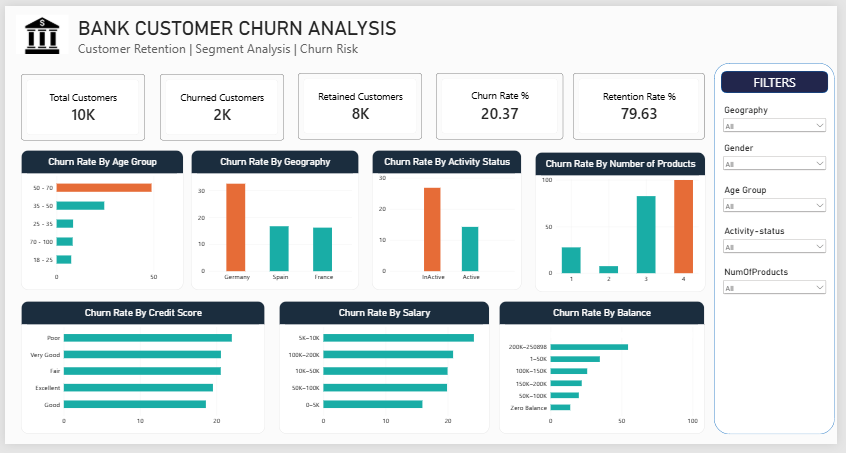

Layout of this report page (visuals, bound fields, positions):
{"tool":"powerbi","page":{"name":"Page 1","canvas":[2082,1093],"ordinal":0},"visuals":[{"type":"textbox","title":"BANK CUSTOMER CHURN ANALYSIS","box":[181.4,27.7,1718.4,141.1],"z":0},{"type":"image","box":[27.7,0,131,141.1],"z":1000},{"type":"cardVisual","fields":{"Data":["Updated_Bank_Customer_Churn.Total Customers"]},"box":[40.3,168.8,309.9,166.3],"z":2000},{"type":"cardVisual","fields":{"Data":["Updated_Bank_Customer_Churn.Churned Customers"]},"box":[388,168.8,309.9,166.3],"z":3000},{"type":"cardVisual","fields":{"Data":["Updated_Bank_Customer_Churn.Retained Customers"]},"box":[731.8,168.7,310.1,165.9],"z":4000},{"type":"cardVisual","fields":{"Data":["Updated_Bank_Customer_Churn.Churn Rate"]},"box":[1077.3,168.7,318.3,165.9],"z":5000},{"type":"cardVisual","fields":{"Data":["Updated_Bank_Customer_Churn.Retention Rate"]},"box":[1420.1,168.7,329.2,165.9],"z":6000},{"type":"barChart","title":"Churn Rate By Age Group","fields":{"Category":["Updated_Bank_Customer_Churn.age_range"],"Y":["Updated_Bank_Customer_Churn.Churn Rate %"]},"box":[40,360,406,350],"z":7000},{"type":"columnChart","title":"Churn Rate By Geography","fields":{"Category":["Updated_Bank_Customer_Churn.Geography"],"Y":["Updated_Bank_Customer_Churn.Churn Rate %"]},"box":[466,360,420,350],"z":8000},{"type":"columnChart","title":"Churn Rate By Activity Status","fields":{"Category":["Updated_Bank_Customer_Churn.activity-status"],"Y":["Updated_Bank_Customer_Churn.Churn Rate %"]},"box":[918,360,374,350],"z":9000},{"type":"clusteredColumnChart","title":"Churn Rate By Number of Products","fields":{"Category":["Updated_Bank_Customer_Churn.NumOfProducts"],"Y":["Updated_Bank_Customer_Churn.Churn Rate %"]},"box":[1324,364,426,350],"z":10000},{"type":"barChart","title":"Churn Rate By Credit Score","fields":{"Category":["Updated_Bank_Customer_Churn.CreditScoreRange"],"Y":["Updated_Bank_Customer_Churn.Churn Rate %"]},"box":[40,738,610,332],"z":11000},{"type":"barChart","title":"Churn Rate By Balance","fields":{"Category":["Updated_Bank_Customer_Churn.Balance_Range"],"Y":["Updated_Bank_Customer_Churn.Churn Rate %"]},"box":[1236,738,514,332],"z":12000},{"type":"barChart","title":"Churn Rate By Salary","fields":{"Category":["Updated_Bank_Customer_Churn.Salary_Range"],"Y":["Updated_Bank_Customer_Churn.Churn Rate %"]},"box":[686,738,526,332],"z":13000},{"type":"shape","box":[2194,252,150,166],"z":14000},{"type":"shape","box":[1773.3,141.7,301.7,928.3],"z":15000},{"type":"shape","box":[1790,161.7,268.3,55],"z":16000},{"type":"slicer","fields":{"Values":["Updated_Bank_Customer_Churn.Geography"]},"box":[1790,246.7,268.3,78.3],"z":17000},{"type":"slicer","fields":{"Values":["Updated_Bank_Customer_Churn.Gender"]},"box":[1790,343.3,268.3,78.3],"z":18000},{"type":"slicer","fields":{"Values":["Updated_Bank_Customer_Churn.age_range"]},"box":[1790,448.3,268.3,78.3],"z":19000},{"type":"slicer","fields":{"Values":["Updated_Bank_Customer_Churn.activity-status"]},"box":[1790,550,268.3,78.3],"z":20000},{"type":"slicer","fields":{"Values":["Updated_Bank_Customer_Churn.NumOfProducts"]},"box":[1790,651.7,268.3,78.3],"z":21000}]}

Visuals, with their boxes in screenshot pixels (x1, y1, x2, y2), scaled from the page's 2082x1093 canvas onto the 846x453 screenshot:
"BANK CUSTOMER CHURN ANALYSIS" textbox: bbox=(74, 11, 772, 70)
image: bbox=(11, 0, 64, 58)
cardVisual - Updated_Bank_Customer_Churn.Total Customers: bbox=(16, 70, 142, 139)
cardVisual - Updated_Bank_Customer_Churn.Churned Customers: bbox=(158, 70, 284, 139)
cardVisual - Updated_Bank_Customer_Churn.Retained Customers: bbox=(297, 70, 423, 139)
cardVisual - Updated_Bank_Customer_Churn.Churn Rate: bbox=(438, 70, 567, 139)
cardVisual - Updated_Bank_Customer_Churn.Retention Rate: bbox=(577, 70, 711, 139)
"Churn Rate By Age Group" barChart: bbox=(16, 149, 181, 294)
"Churn Rate By Geography" columnChart: bbox=(189, 149, 360, 294)
"Churn Rate By Activity Status" columnChart: bbox=(373, 149, 525, 294)
"Churn Rate By Number of Products" clusteredColumnChart: bbox=(538, 151, 711, 296)
"Churn Rate By Credit Score" barChart: bbox=(16, 306, 264, 443)
"Churn Rate By Balance" barChart: bbox=(502, 306, 711, 443)
"Churn Rate By Salary" barChart: bbox=(279, 306, 492, 443)
shape: bbox=(721, 59, 843, 443)
shape: bbox=(727, 67, 836, 90)
slicer - Updated_Bank_Customer_Churn.Geography: bbox=(727, 102, 836, 135)
slicer - Updated_Bank_Customer_Churn.Gender: bbox=(727, 142, 836, 175)
slicer - Updated_Bank_Customer_Churn.age_range: bbox=(727, 186, 836, 218)
slicer - Updated_Bank_Customer_Churn.activity-status: bbox=(727, 228, 836, 260)
slicer - Updated_Bank_Customer_Churn.NumOfProducts: bbox=(727, 270, 836, 303)
